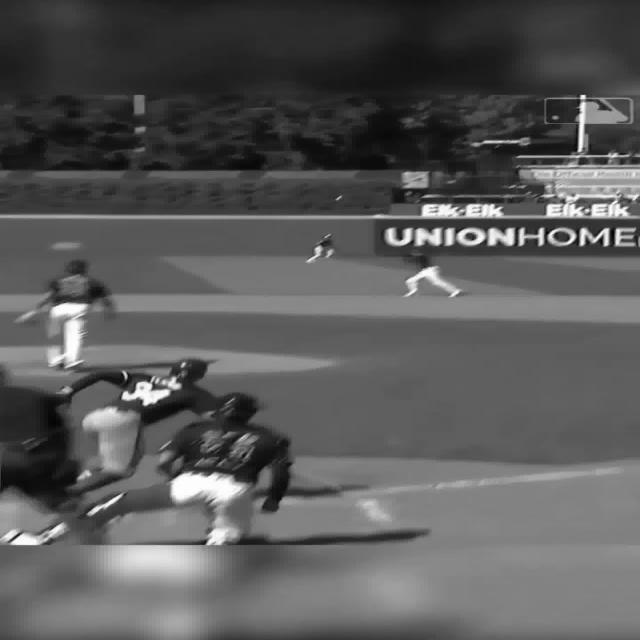baseball: (335, 196, 343, 200)
baseball_glove: (12, 310, 38, 324)
shoe: (0, 522, 69, 545), (80, 492, 126, 520), (0, 528, 46, 545), (36, 522, 70, 544), (62, 360, 84, 370), (48, 357, 64, 368), (446, 289, 462, 297)
